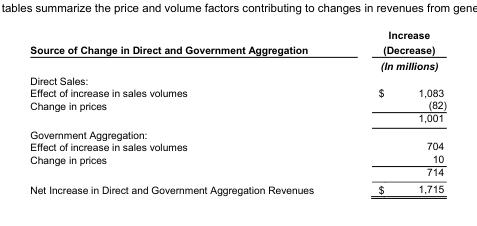table: (29, 28, 445, 194)
table column: (29, 28, 345, 194), (345, 28, 445, 194)
table column header: (29, 28, 445, 73)
table projected row header: (29, 126, 445, 140), (29, 73, 445, 86)
table row: (29, 28, 445, 73), (29, 111, 445, 126), (29, 165, 445, 180), (29, 126, 445, 140), (29, 180, 445, 194), (29, 73, 445, 86), (29, 98, 445, 111), (29, 152, 445, 165), (29, 86, 445, 98), (29, 140, 445, 152)
